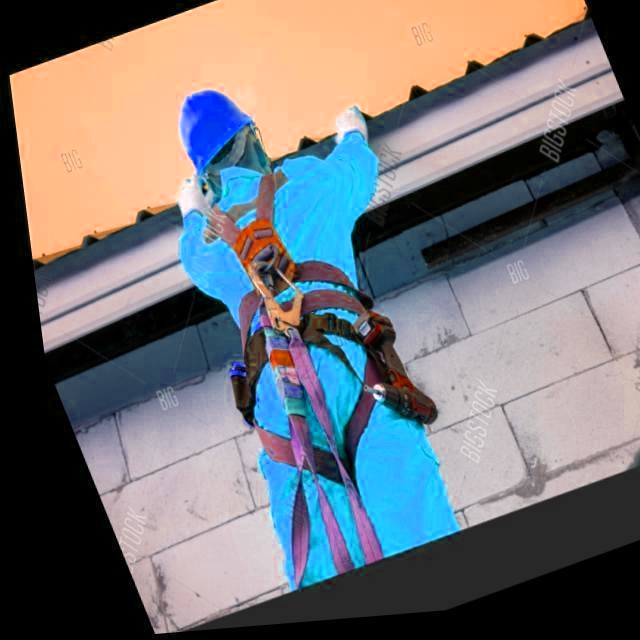safety belt: (202, 189, 424, 487)
